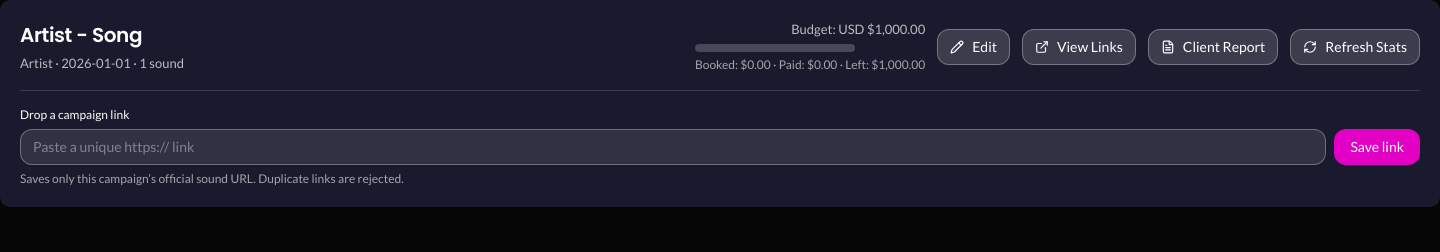
Test case: <CampaignHeader /> link drop-in › sends an explicit URL mutation with the displayed value as its CAS guard
The width and height of the screenshot is (1440, 252).
Step 1. Type "https://example.com/new" into the field labelled "Drop a campaign link" → (673, 146), box [20,128,1326,164]
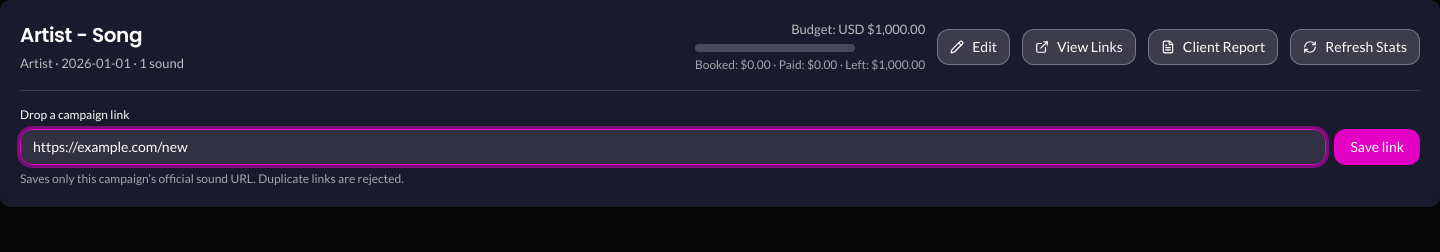
Step 2. Click the button "Save link" → (1377, 146), box [1334,128,1420,164]
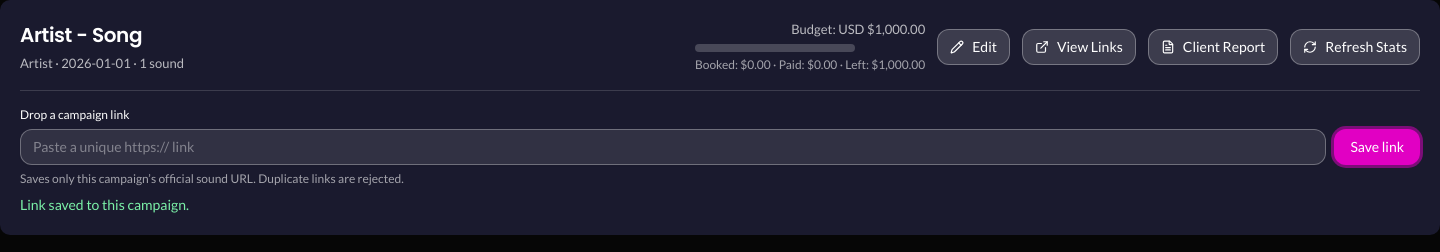
Expected: the text "Link saved to this campaign." is shown, [20,196,189,212]
Expected: the field labelled "Drop a campaign link" is empty, [20,128,1326,164]
